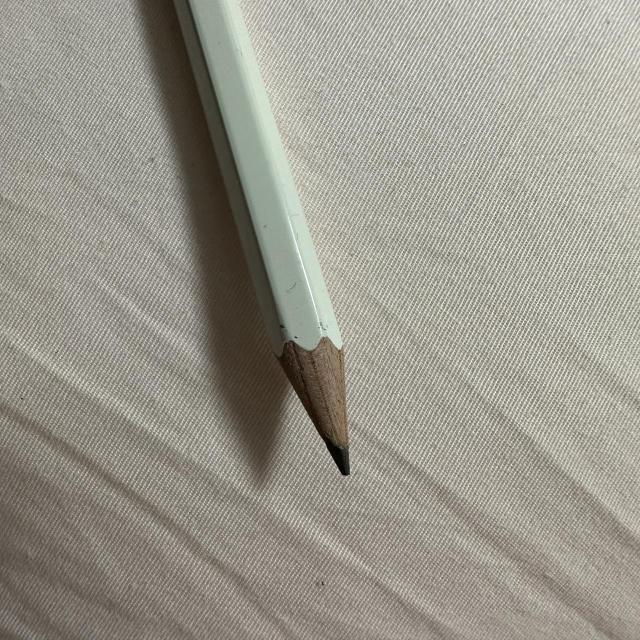pencil: (164, 0, 354, 491)
